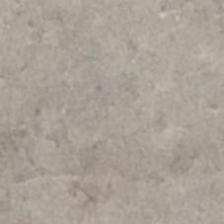Non_Crack: (15, 25, 201, 189)
